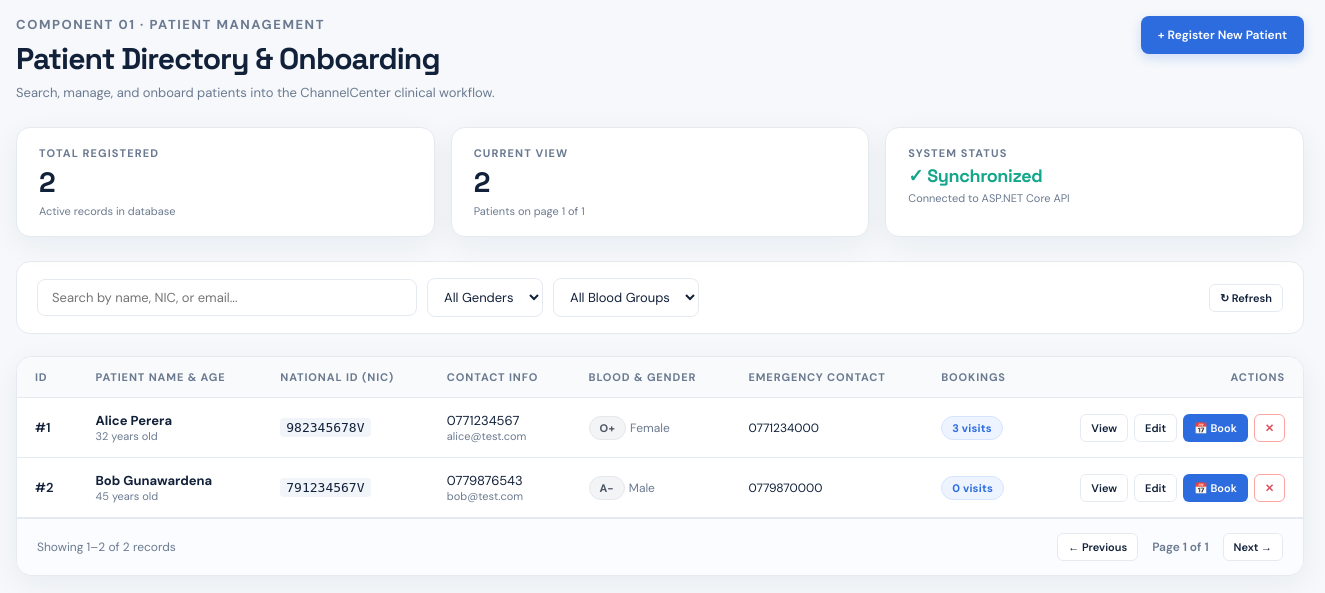
PatientDirectoryTab › shows Reset Filters button when a filter is active
Expected: the text "Alice Perera" is shown, [96,412,172,429]
In the field with placeholder "Search by name, NIC, or email...": {"x": 227, "y": 298} [37,279,417,316], type "Alice"
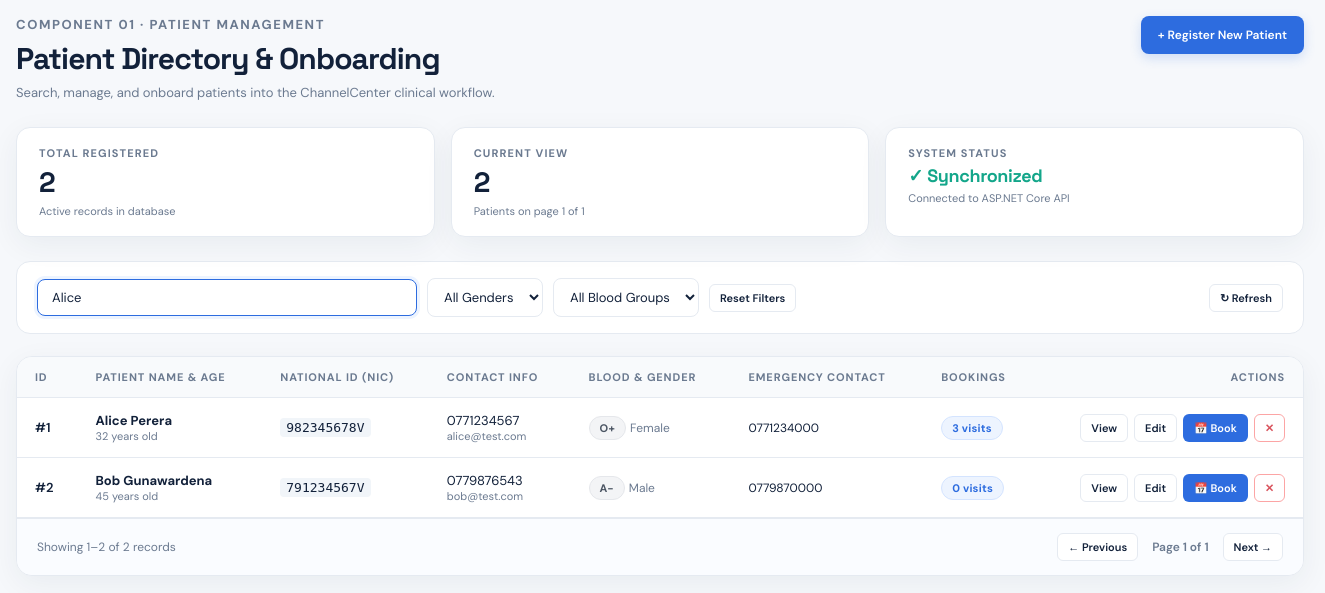
Result: the button "Reset Filters" is shown at [709,284,796,312]
